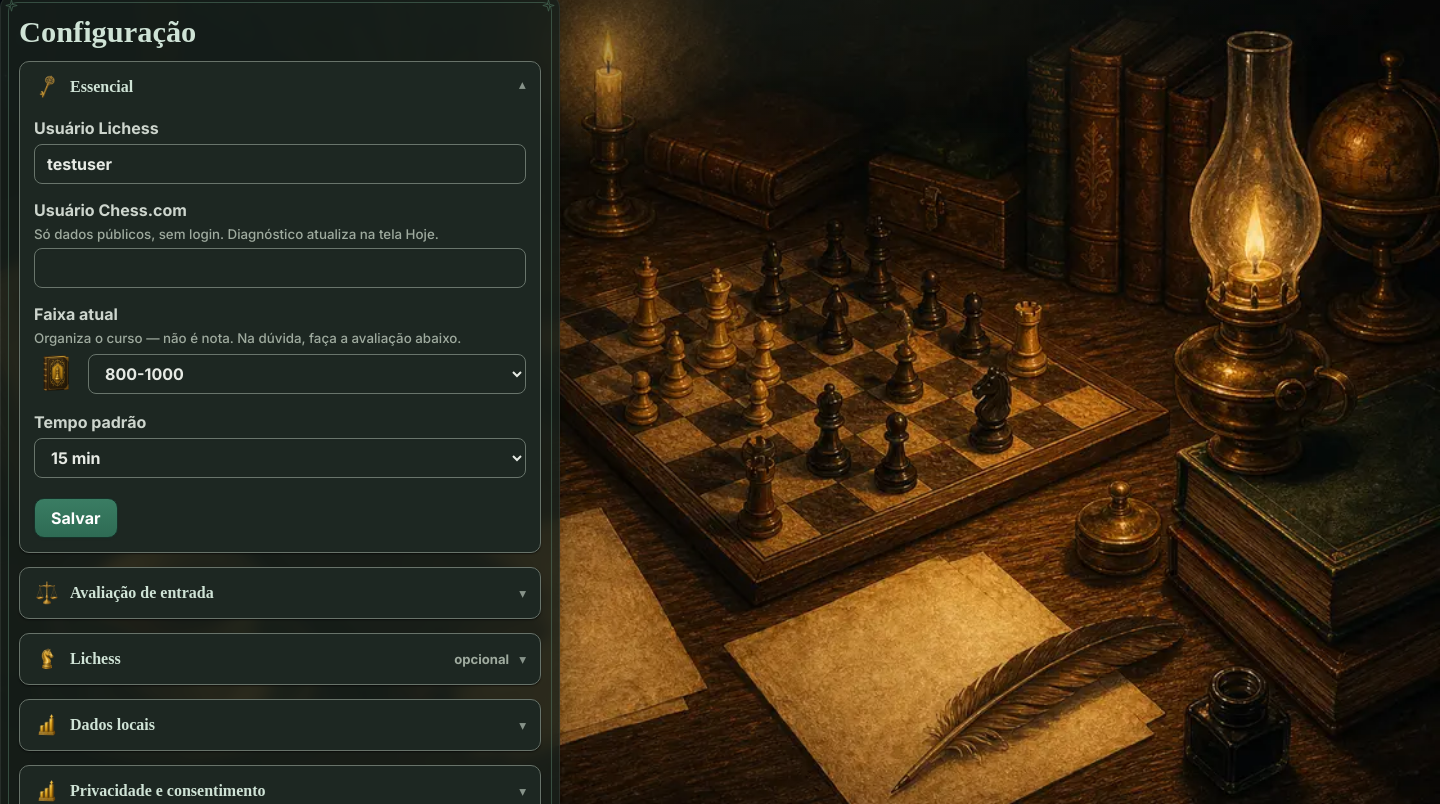
Scenario: Config — autoBackupStatus › shows "Desligar backup automático" when autoBackupStatus is "enabled"
The image size is (1440, 804).
Click the heading "Dados locais".
click(94, 725)  # box [34,712,155,738]
(page scrolled)
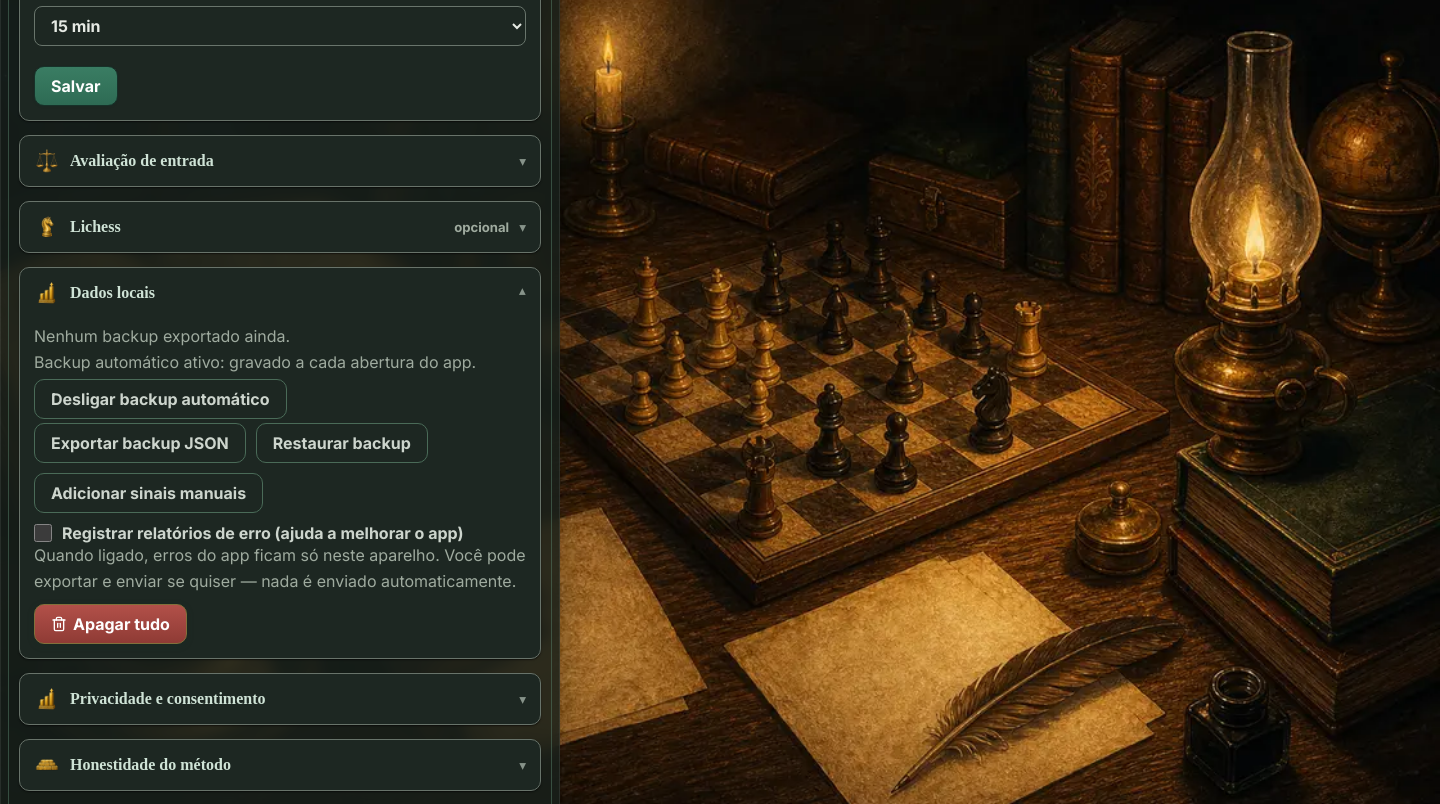
Now the button "Desligar backup automático" is shown, box [34,379,287,419]
